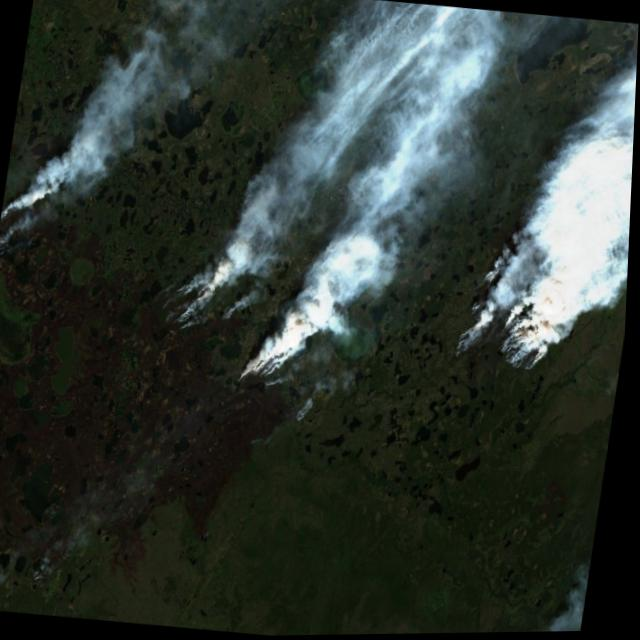fire: (0, 156, 634, 435)
